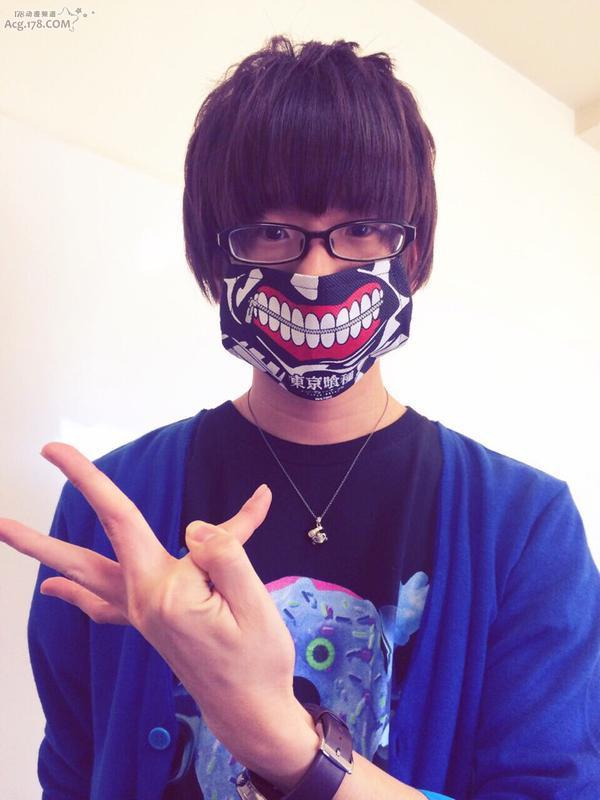WRONG: (220, 195, 407, 382)
